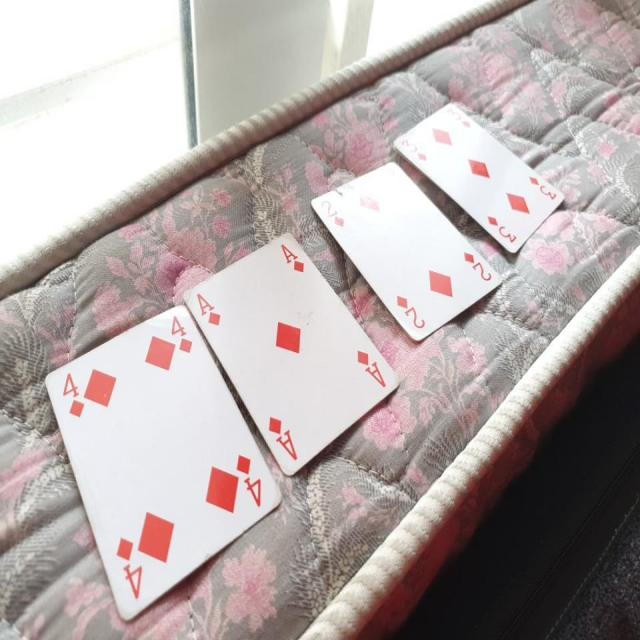2 Diamonds: (314, 164, 504, 344)
3 Diamonds: (389, 100, 565, 260)
4 Diamonds: (41, 302, 286, 627)
A Diamonds: (177, 229, 396, 474)
